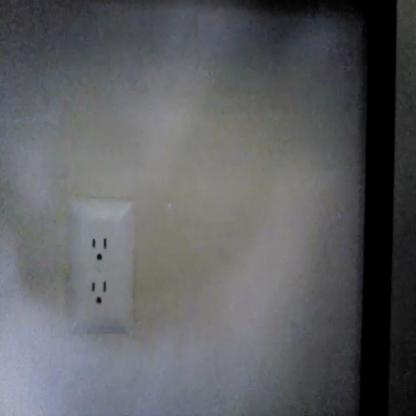OUTLET: (64, 195, 136, 336)
